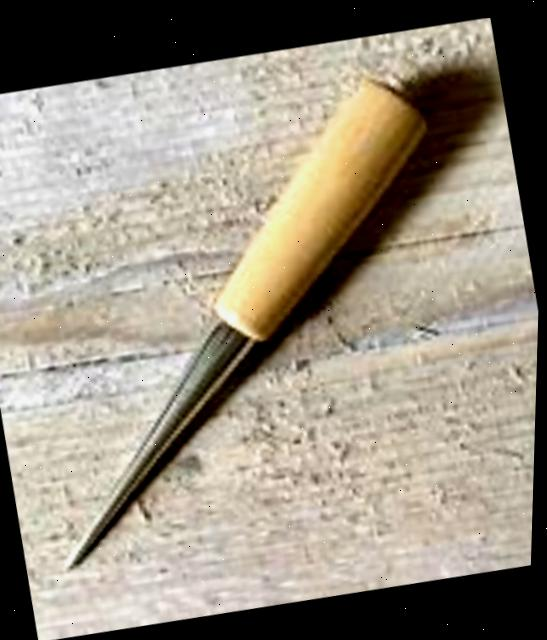ice pick: (0, 58, 515, 585)
